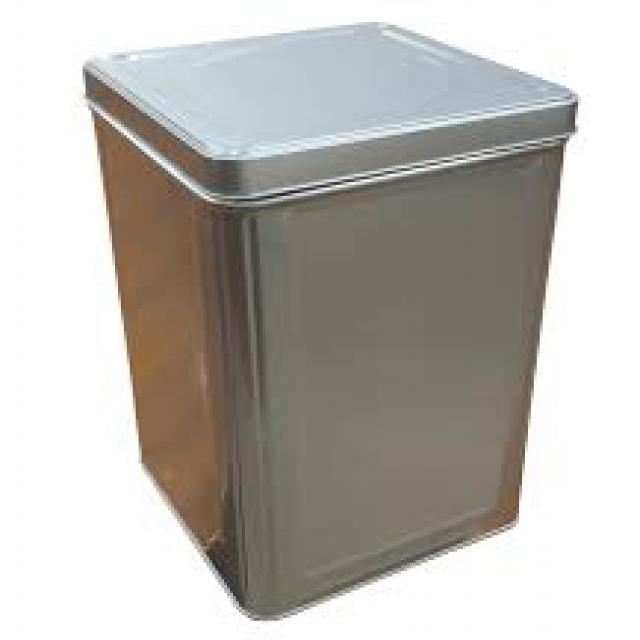recyclable: (84, 21, 578, 622)
